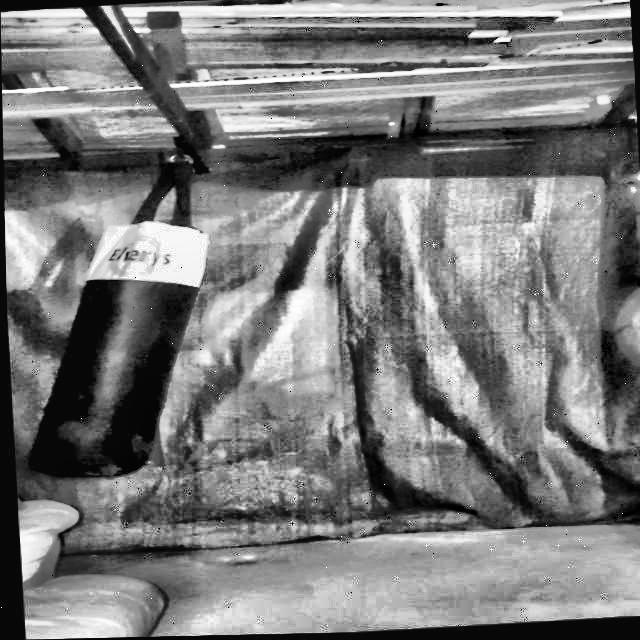boxing-bag: (12, 127, 225, 486)
